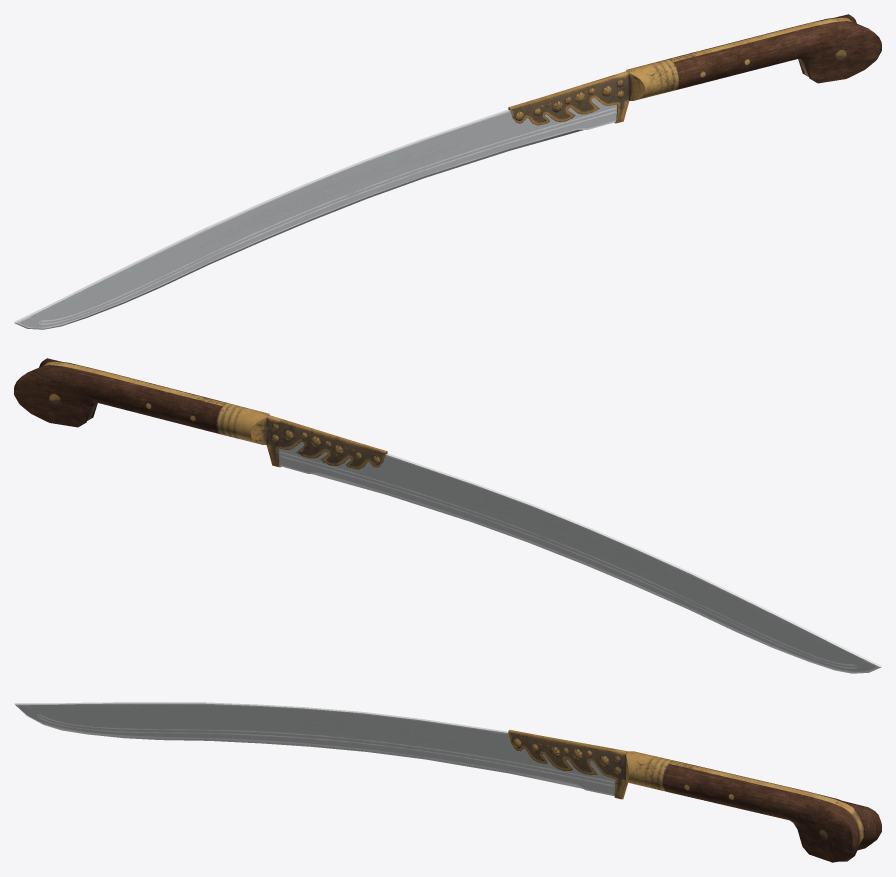
The model's file is yatagan_sword_ottoman.glb.
3 views of the same model, one above another, from view 1: azimuth 30°, elevation 25°; view 2: azimuth 150°, elevation 25°; view 3: azimuth 330°, elevation 25° (orthographic).
Parts seen in each view (by area): view 1: Sharp, Handle.006; view 2: Sharp, Handle.006; view 3: Sharp, Handle.006, Handle.004.
Part boxes in pixels (bbox=[...]): Sharp: bbox=[14, 98, 617, 329]; Handle.006: bbox=[508, 14, 881, 125]; Sharp: bbox=[278, 442, 881, 673]; Handle.006: bbox=[14, 358, 387, 469]; Sharp: bbox=[14, 702, 615, 796]; Handle.006: bbox=[508, 729, 881, 862]; Handle.004: bbox=[512, 738, 621, 774].
Bounding box in the file's own units: 81.14 × 10.78 × 4.55.
3 materials, 3 textured.
